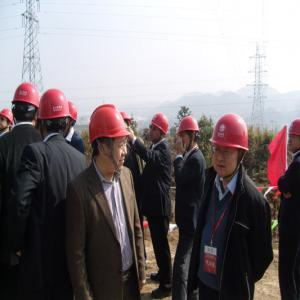red: (89, 104, 130, 176), (210, 115, 250, 178), (39, 89, 71, 139), (12, 85, 40, 126), (178, 116, 200, 150), (150, 114, 169, 142), (286, 118, 300, 154), (2, 109, 15, 134)
